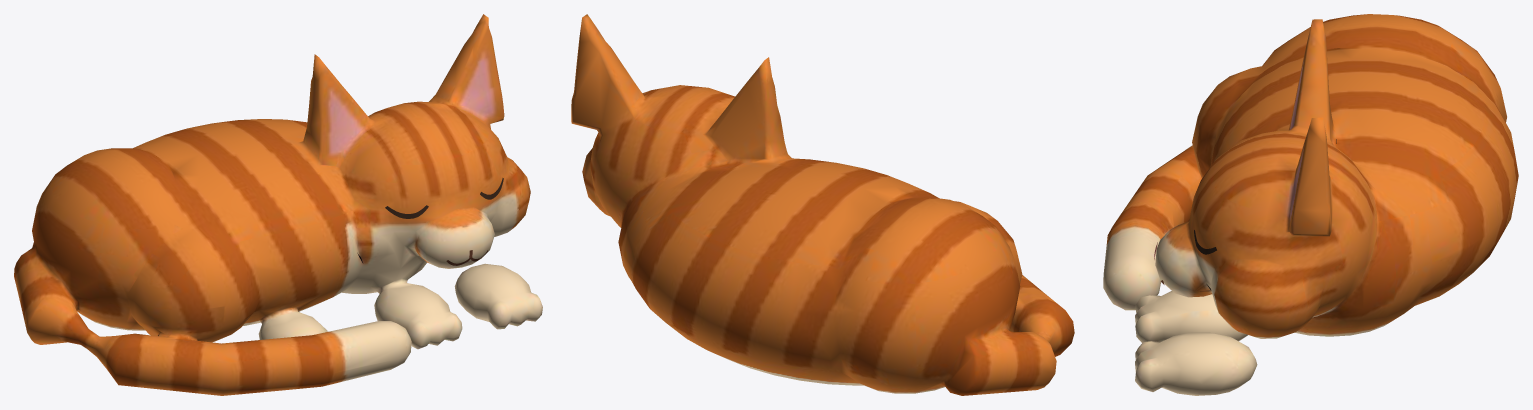
Rendered from cat-sleep-cc.glb.
The picture shows the model from 3 angles, left to right: view 1: azimuth 30°, elevation 25°; view 2: azimuth 150°, elevation 25°; view 3: azimuth 270°, elevation 25°; orthographic projection. The views are drawn at different scales.
Parts seen in each view (by area): view 1: cat-sleep-cc; view 2: cat-sleep-cc; view 3: cat-sleep-cc.
Part boxes in pixels (<box>): cat-sleep-cc: <box>14,14,542,395</box>; cat-sleep-cc: <box>571,14,1074,395</box>; cat-sleep-cc: <box>1103,14,1518,395</box>.
Bounding box in the file's own units: 0.5478 × 0.2874 × 0.3619.
4 materials, 1 textured.
